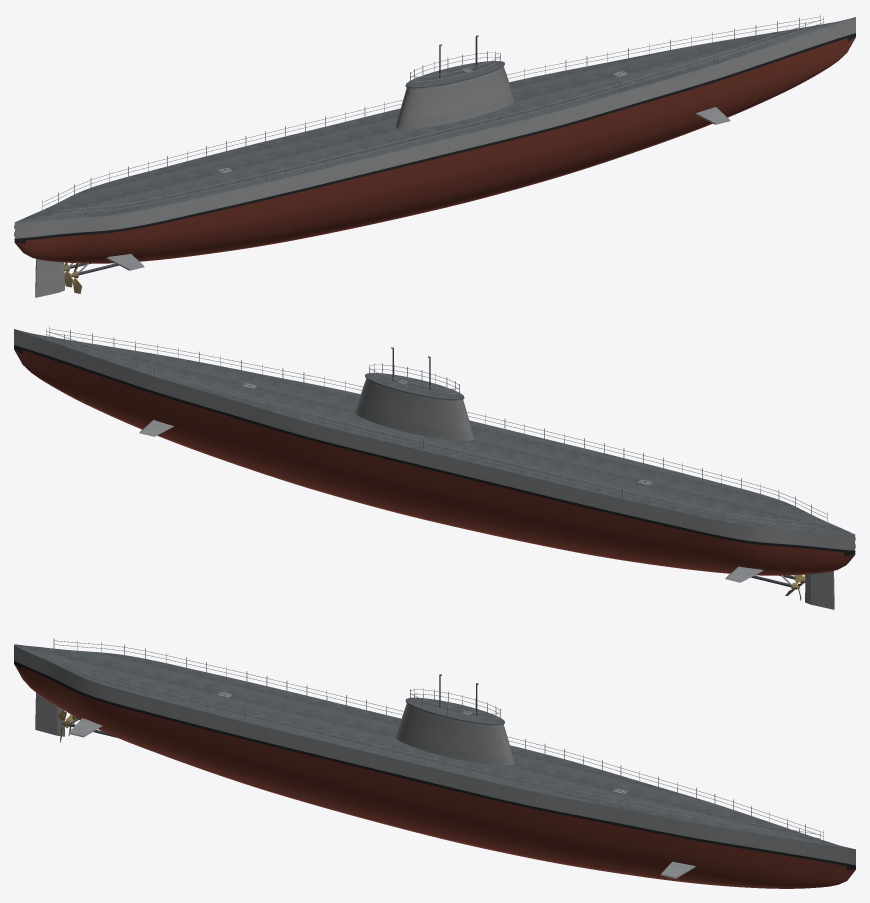
File: schwertwal_typ21.glb
3 renders of one model, top to bottom at view 1: azimuth 30°, elevation 25°; view 2: azimuth 150°, elevation 25°; view 3: azimuth 330°, elevation 25°, orthographic.
Parts seen in each view (by area): view 1: Schwertwal; view 2: Schwertwal; view 3: Schwertwal.
Part boxes in pixels (bbox=[...]): Schwertwal: bbox=[14, 14, 855, 297]; Schwertwal: bbox=[14, 326, 855, 609]; Schwertwal: bbox=[14, 638, 855, 888].
Bounding box in the file's own units: 84 × 15.23 × 10.56.
6 materials, 6 textured.
